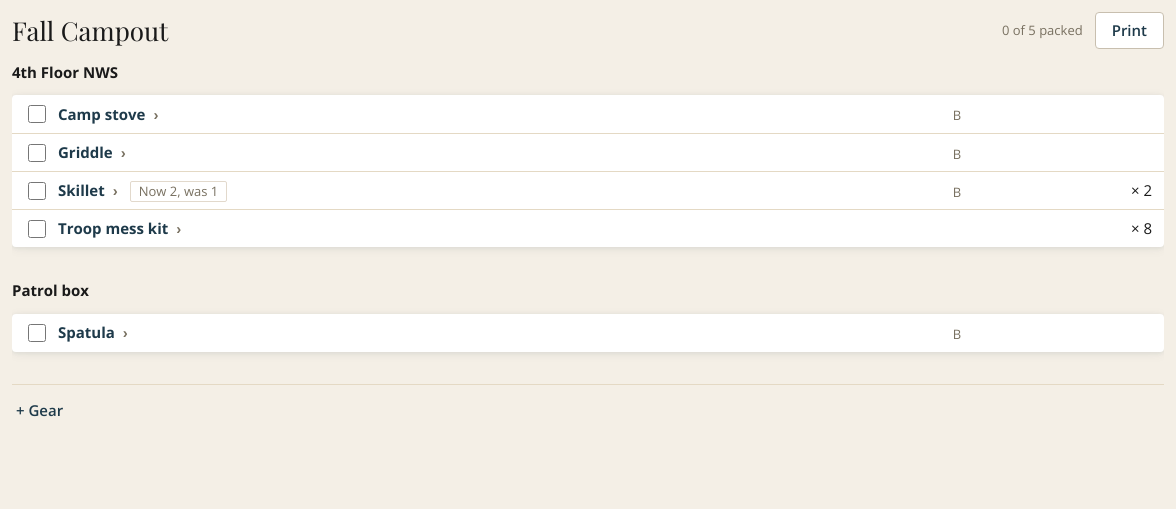
Gear tab › ATickMadeAtAnotherCount_IsCleared_AndTheRowSaysSo
Expected: the checkbox named "Skillet packed" is not checked, [28,182,46,200]
Expected: the list item "Skillet › Now 2, was 1 B × 2" is shown, [12,171,1164,209]
Click the button "Skillet ›" at [88, 190], box [58,179,118,201]
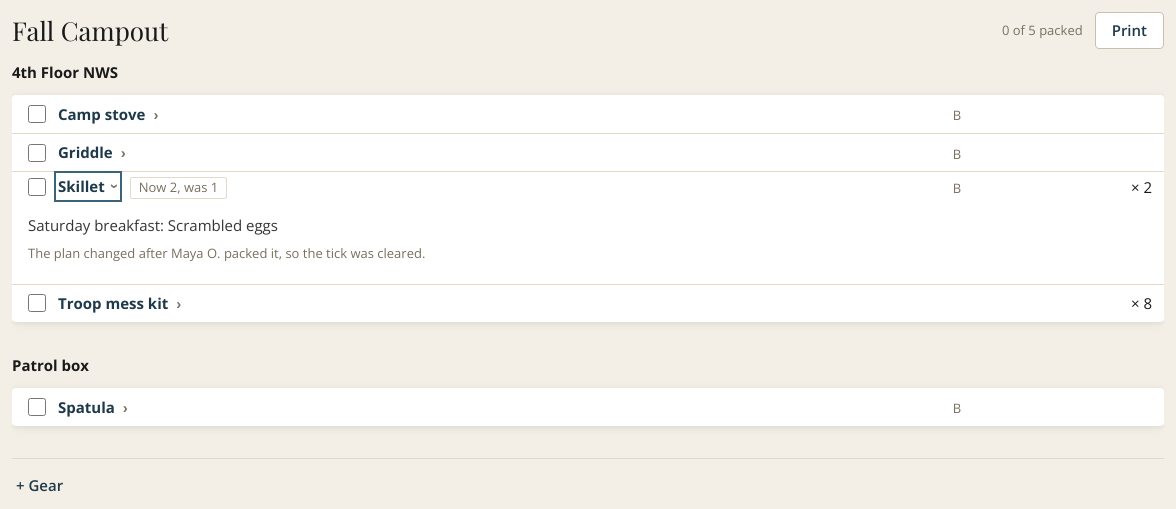
Result: the text "The plan changed after Maya O. packed it, so the tick was cleared." is shown at [28,244,425,262]
